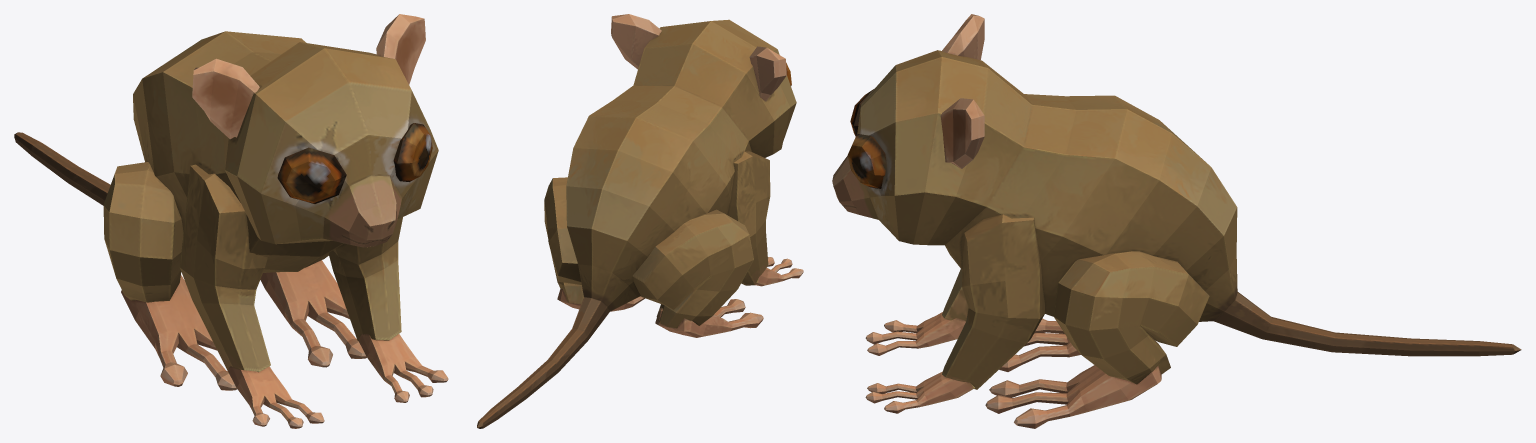
File: PhilippineTarsier.fbx
3 renders of one model, left to right at view 1: azimuth 30°, elevation 25°; view 2: azimuth 150°, elevation 25°; view 3: azimuth 270°, elevation 25°, orthographic. The views are drawn at different scales.
Visible parts, largest first — view 1: PhilippineTarsier; view 2: PhilippineTarsier; view 3: PhilippineTarsier.
Part boxes in pixels (x1,y1,x2,y2): PhilippineTarsier: [14, 14, 448, 428]; PhilippineTarsier: [477, 14, 803, 428]; PhilippineTarsier: [832, 14, 1521, 428].
Bounding box in the file's own units: 60.2 × 73.95 × 141.
